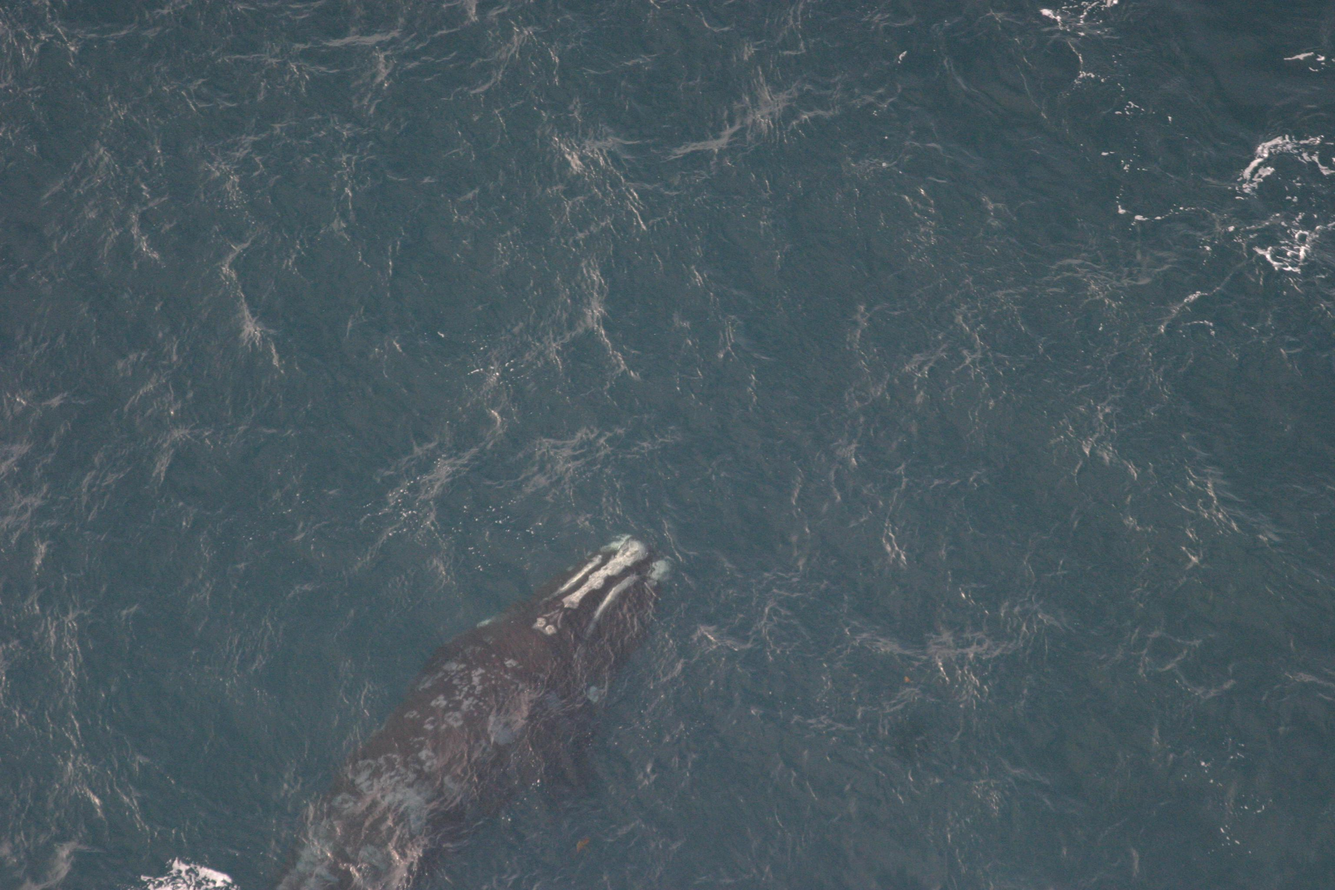whale: (259, 528, 684, 890)
